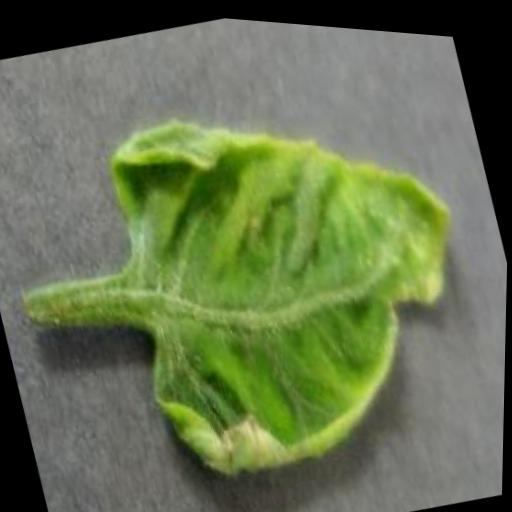Yellow Leaf Curl Virus: (80, 44, 511, 505)
